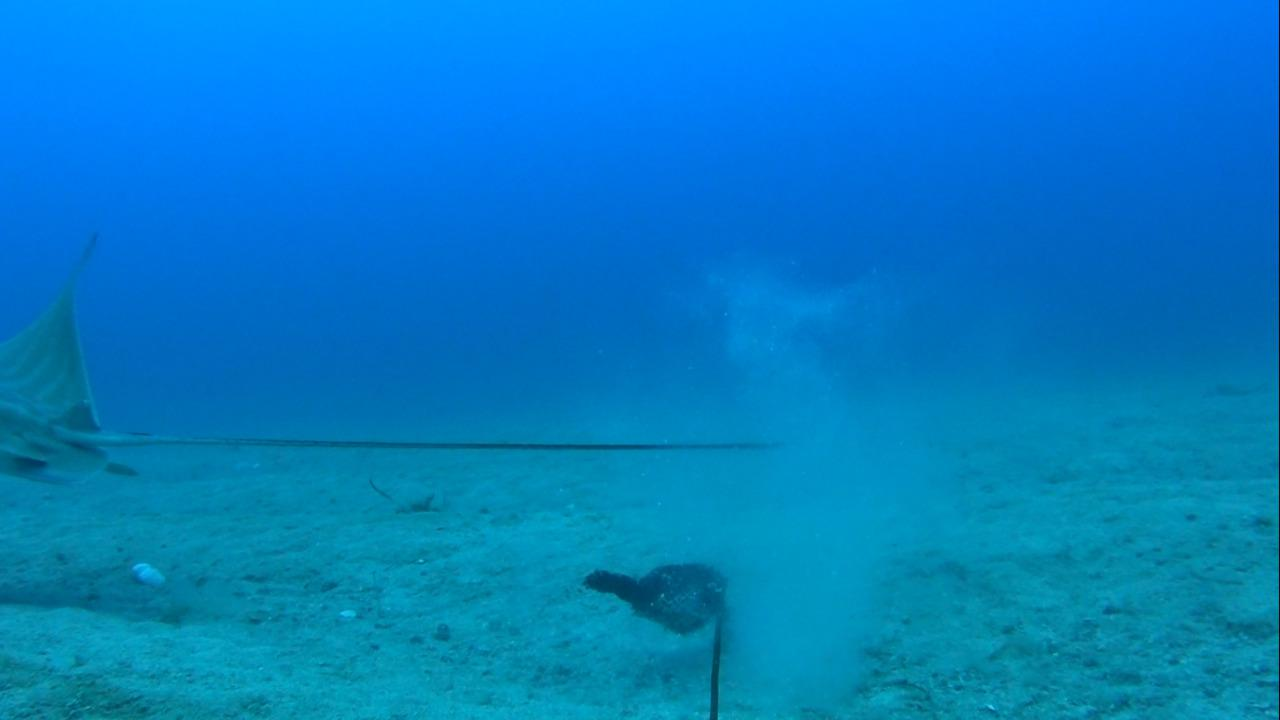myliobatis: (1, 229, 799, 514)
